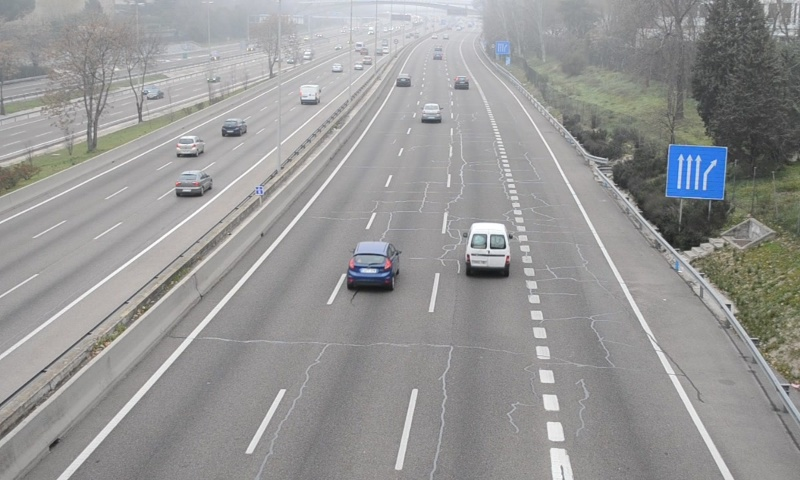car: (348, 241, 398, 287), (420, 103, 442, 122), (395, 72, 412, 87), (454, 76, 469, 89)
van: (464, 222, 510, 278)
